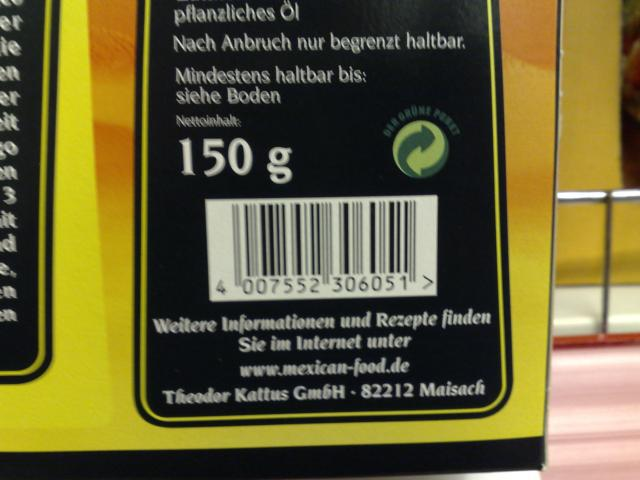Barkod: (230, 200, 416, 277)
